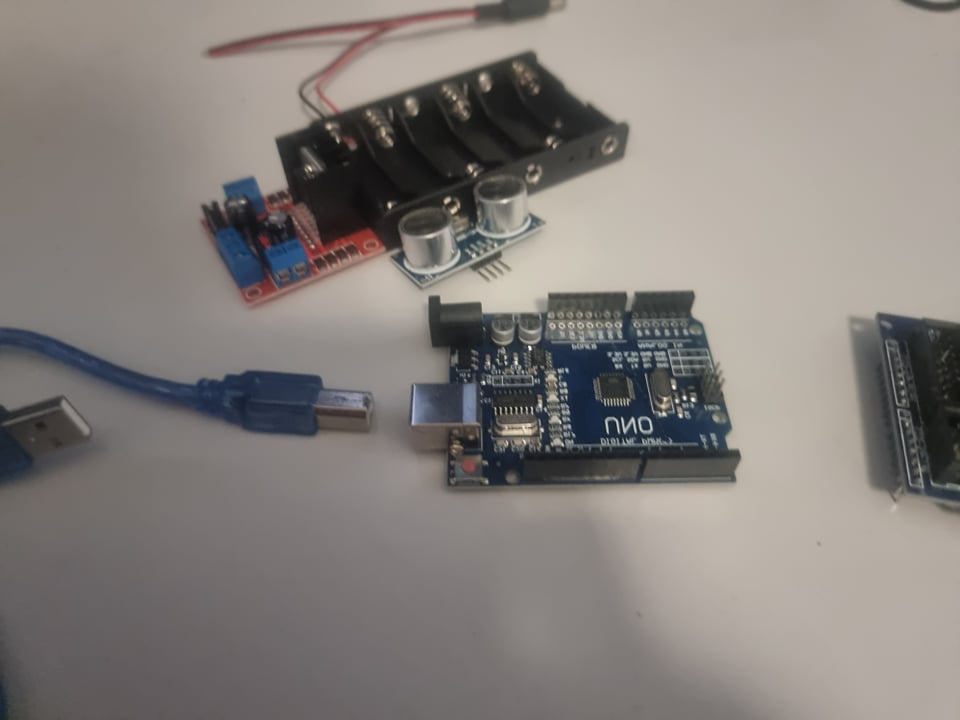BATTERY BOX: (350, 48, 629, 196)
MOTOR: (200, 123, 384, 309)
SENSOR: (395, 177, 538, 286)
UNO R3: (407, 280, 744, 498)
